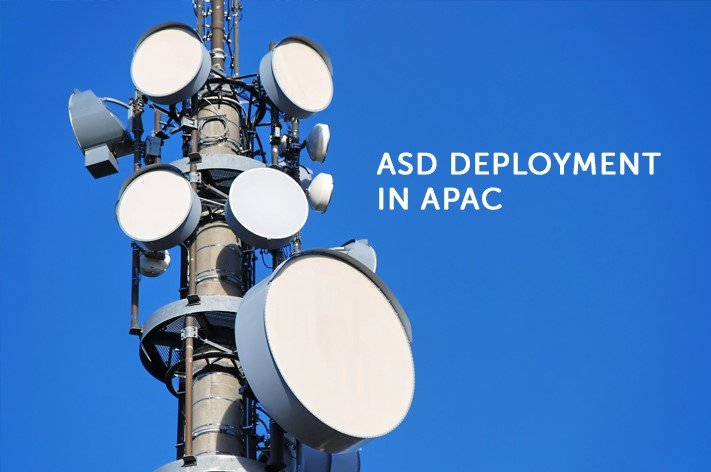ba: (226, 246, 429, 453), (103, 159, 200, 257), (223, 149, 314, 248), (123, 29, 218, 112), (252, 36, 344, 120), (57, 83, 133, 175), (302, 160, 341, 212), (304, 125, 333, 163)
